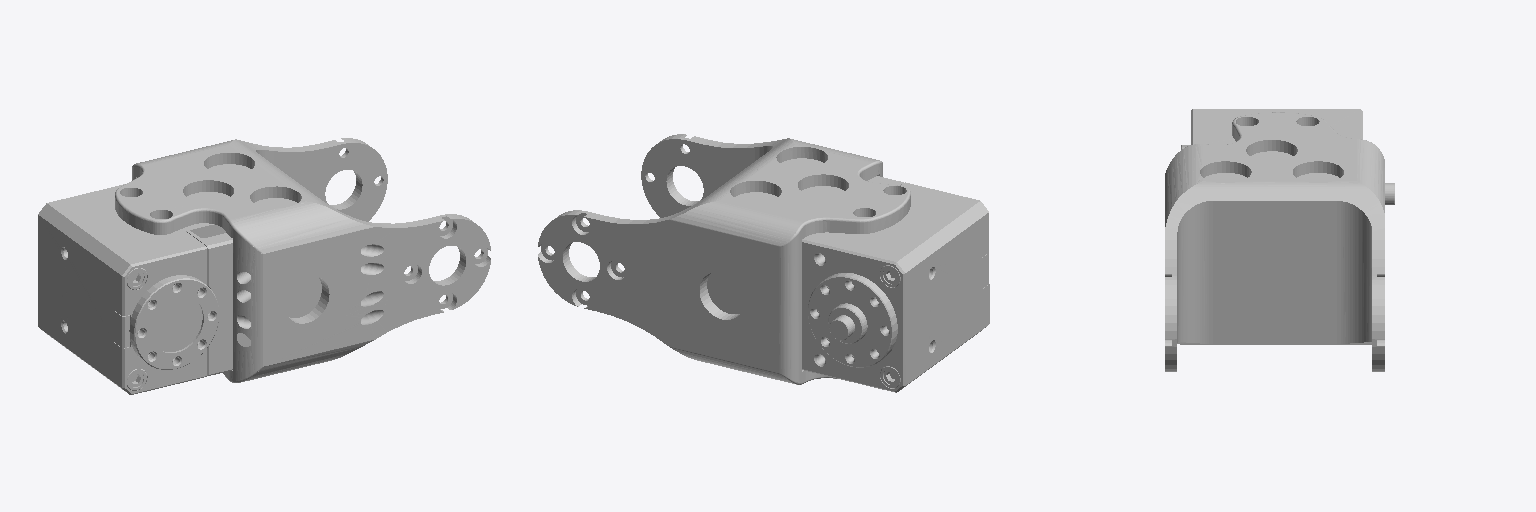
3 views of the same model, side by side, from view 1: azimuth 30°, elevation 25°; view 2: azimuth 150°, elevation 25°; view 3: azimuth 270°, elevation 25° (orthographic).
Parts seen in each view (by area): view 1: link6; view 2: link6; view 3: link6.
Part boxes in pixels (x1,y1,x2,y2): link6: (38, 138, 490, 394); link6: (538, 134, 989, 392); link6: (1165, 109, 1394, 371).
Size of the model in its own units: 0.0812 by 0.035 by 0.0455.